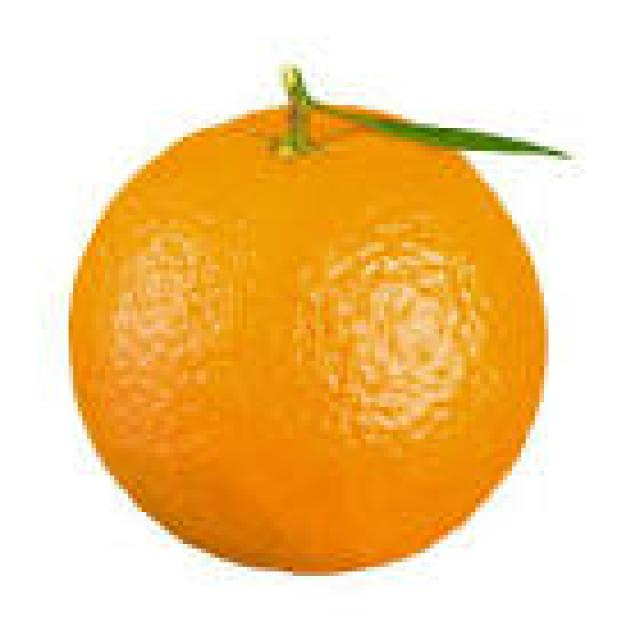orange: (72, 100, 545, 571)
